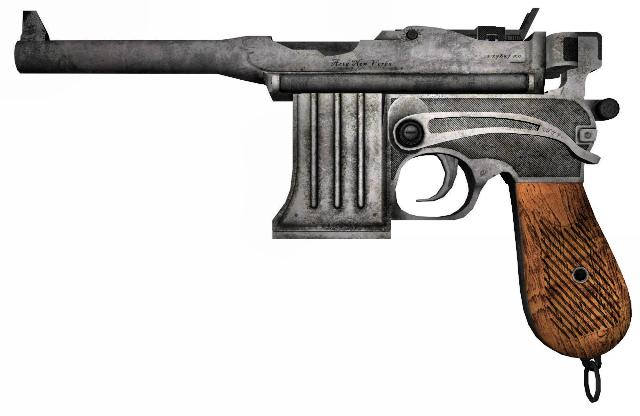pistol: (23, 3, 625, 372)
